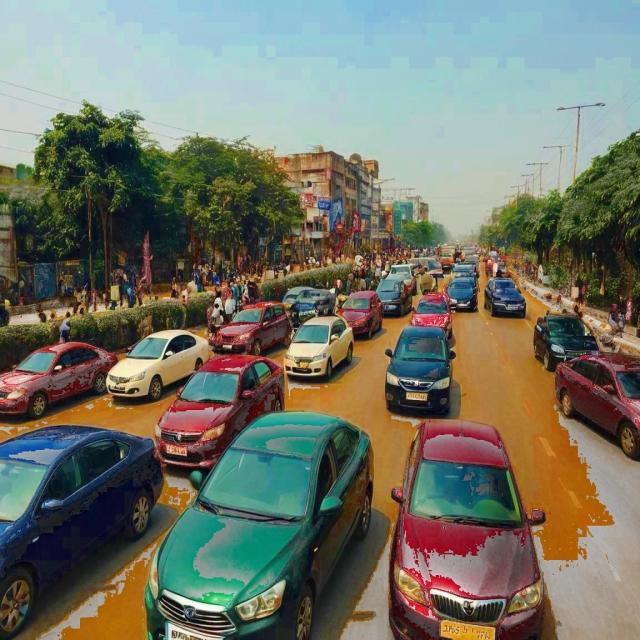black: (384, 323, 459, 417), (530, 309, 601, 363), (484, 276, 529, 321), (443, 276, 480, 314)
blue: (0, 423, 159, 640)
maroon: (391, 415, 542, 640), (158, 354, 292, 470), (550, 354, 640, 456), (216, 293, 296, 361), (338, 285, 386, 340), (410, 292, 453, 339)
red: (0, 337, 115, 417)
white: (104, 330, 214, 400), (282, 312, 352, 384)
